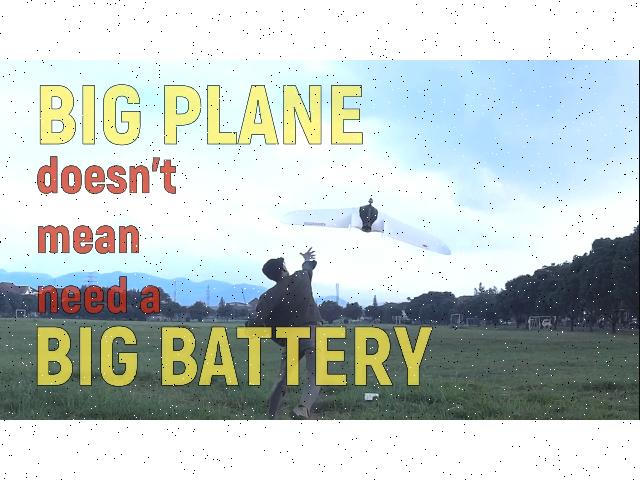Anti-Drone: (280, 199, 454, 256)
